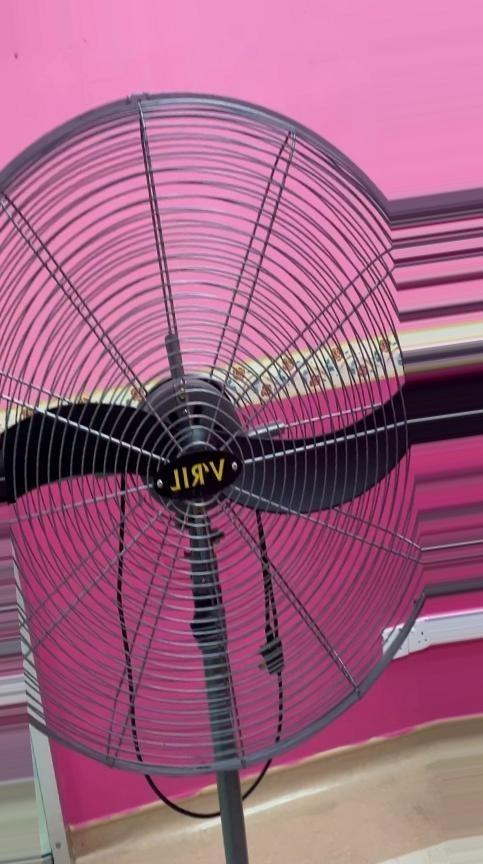fan: (0, 88, 431, 864)
